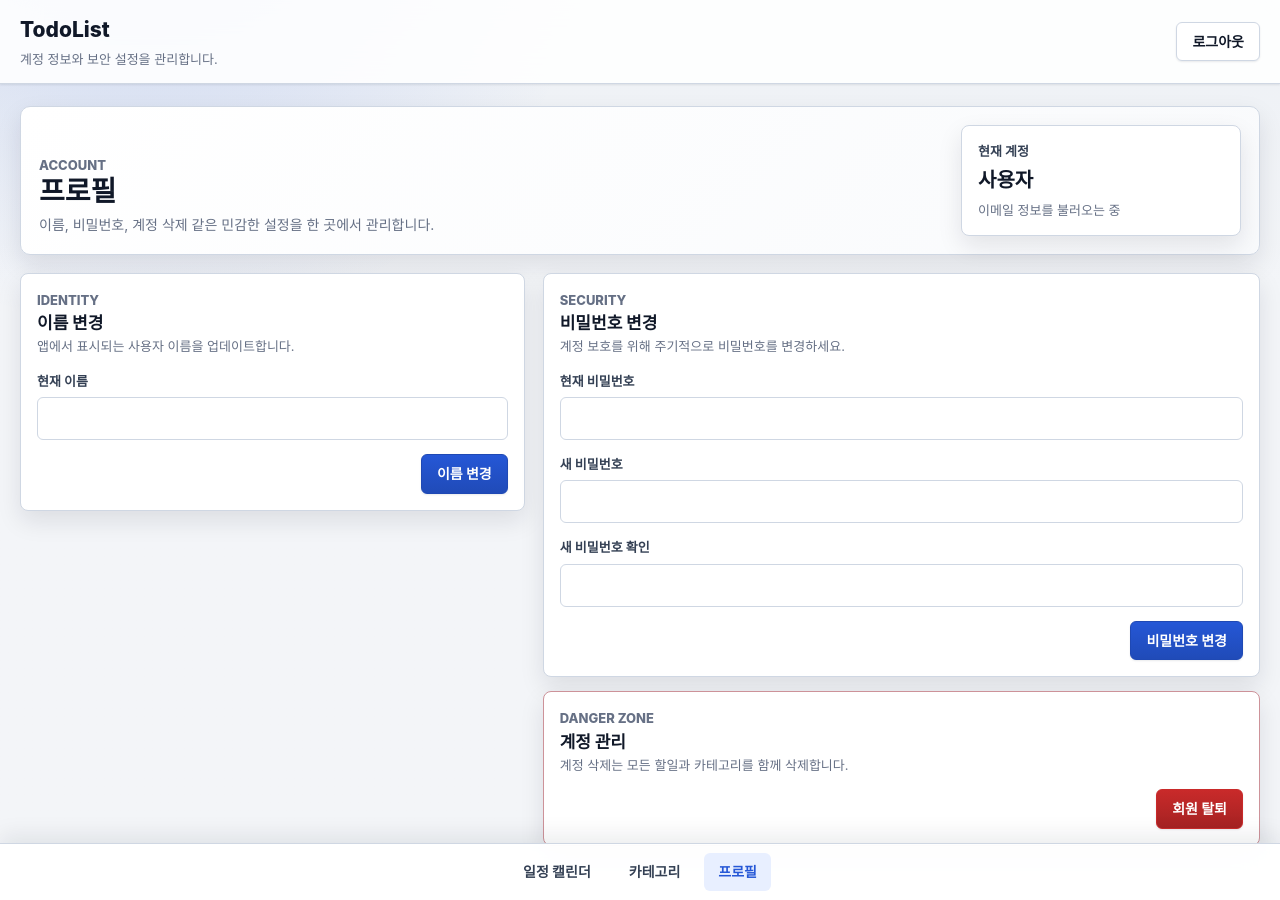
Test: ProfilePage — 비밀번호 변경 › 현재 비밀번호 불일치(401) 시 오류 메시지가 표시된다
Type "wrongpass" into the password field labelled "현재 비밀번호" at {"x": 901, "y": 418}, box [560,397,1243,440]
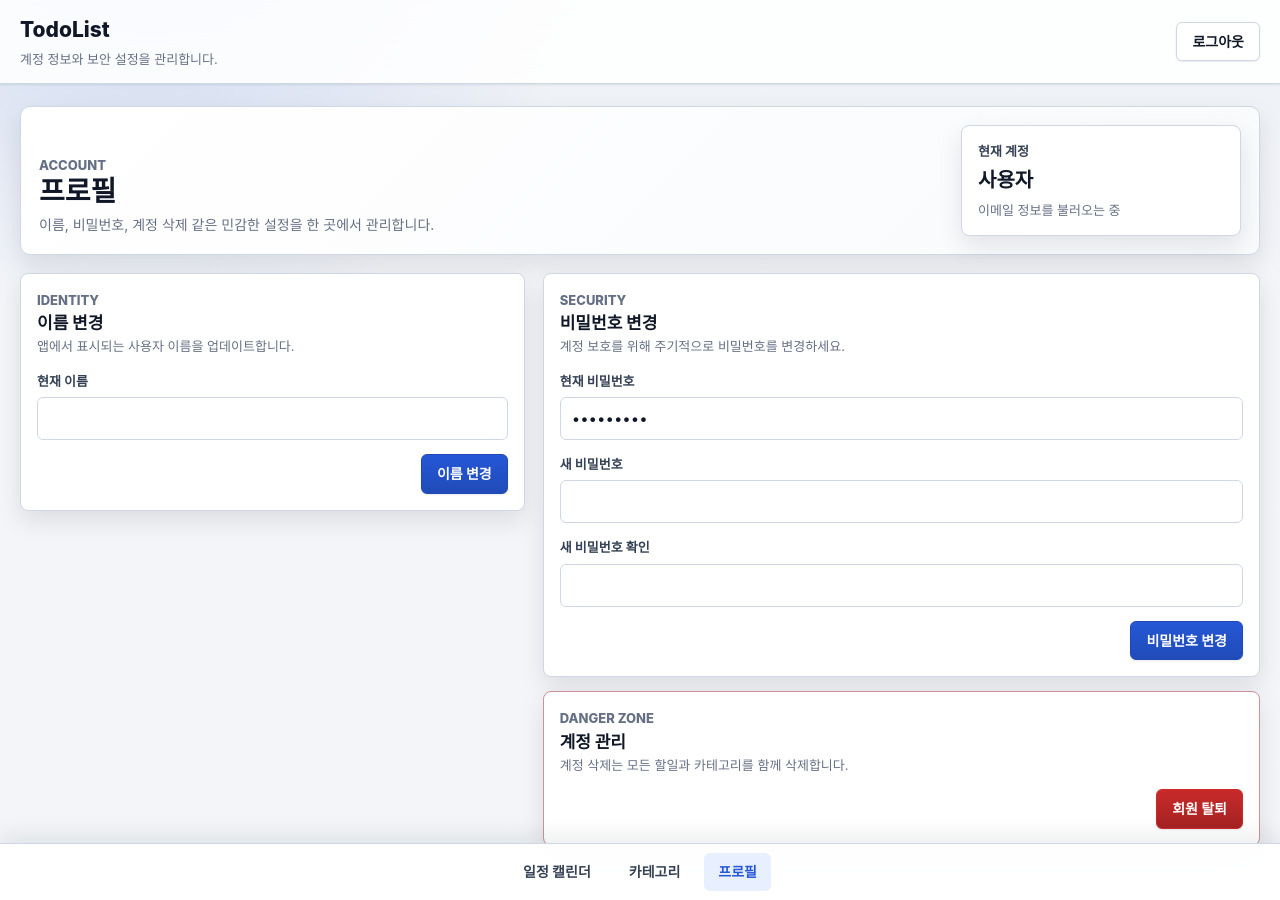
Type "newpass123" into the password field labelled "새 비밀번호" at {"x": 901, "y": 502}, box [560,480,1243,523]
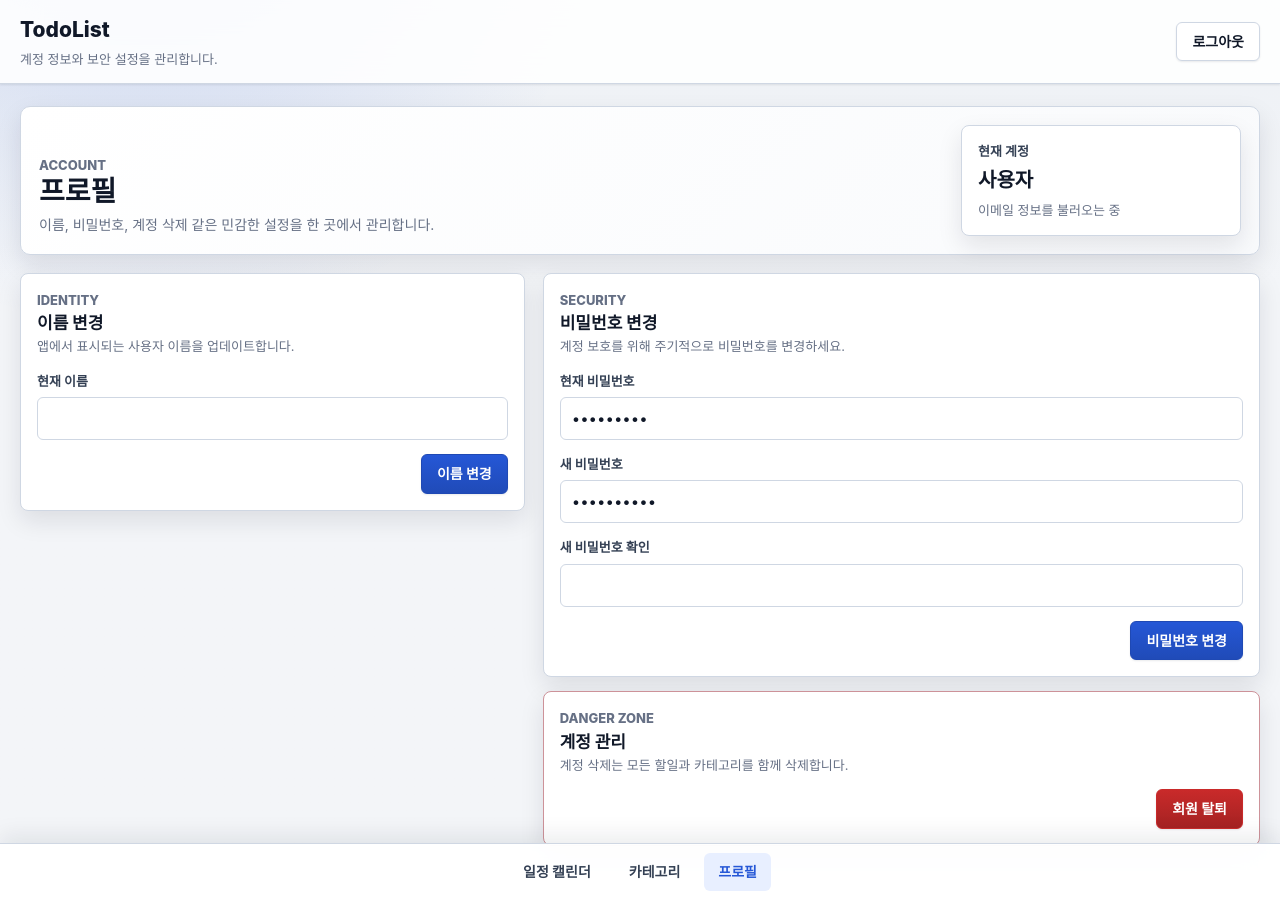
Type "newpass123" into the password field labelled "새 비밀번호 확인" at {"x": 901, "y": 585}, box [560,564,1243,607]
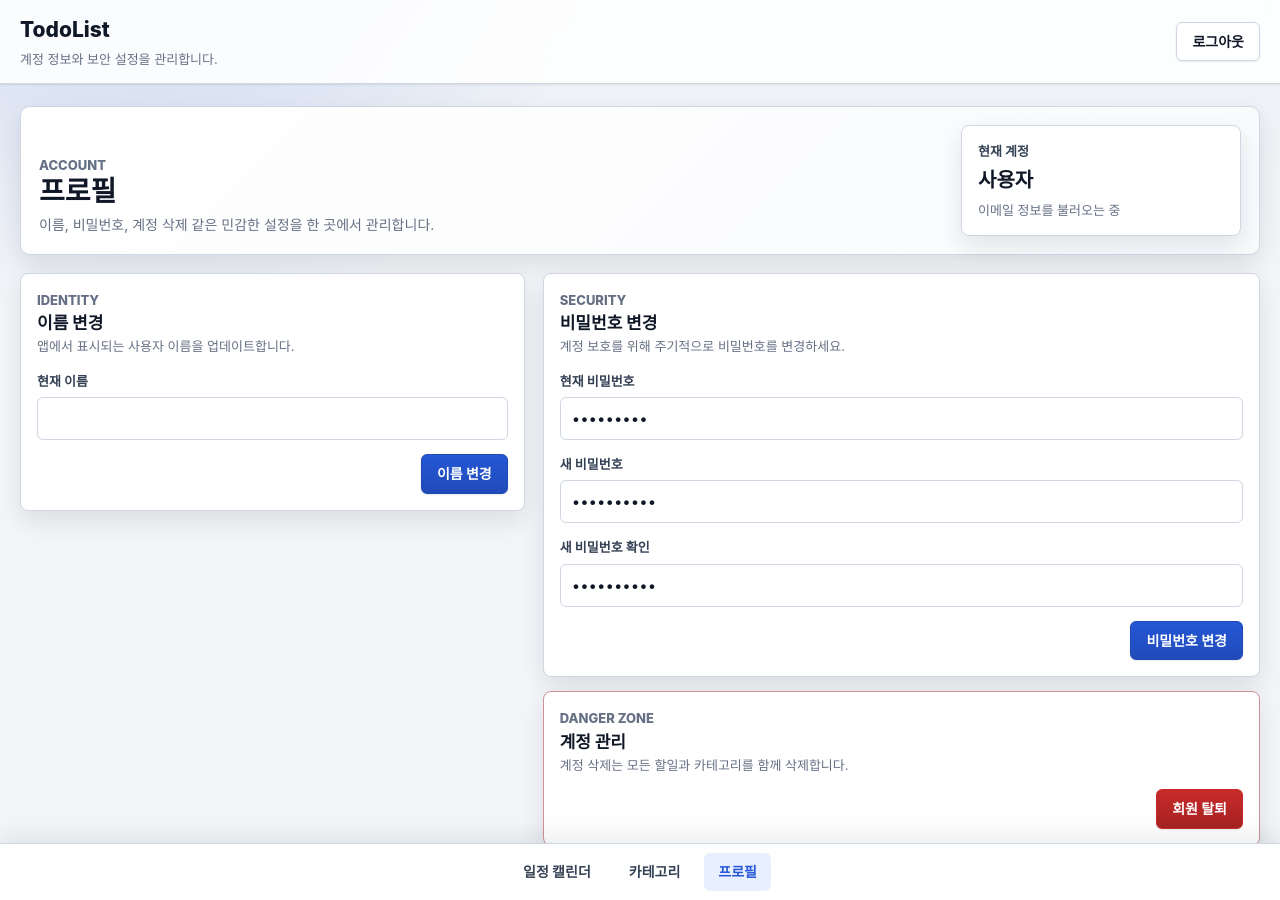
Click the button "비밀번호 변경" at {"x": 1187, "y": 641}, box [1130,621,1243,660]
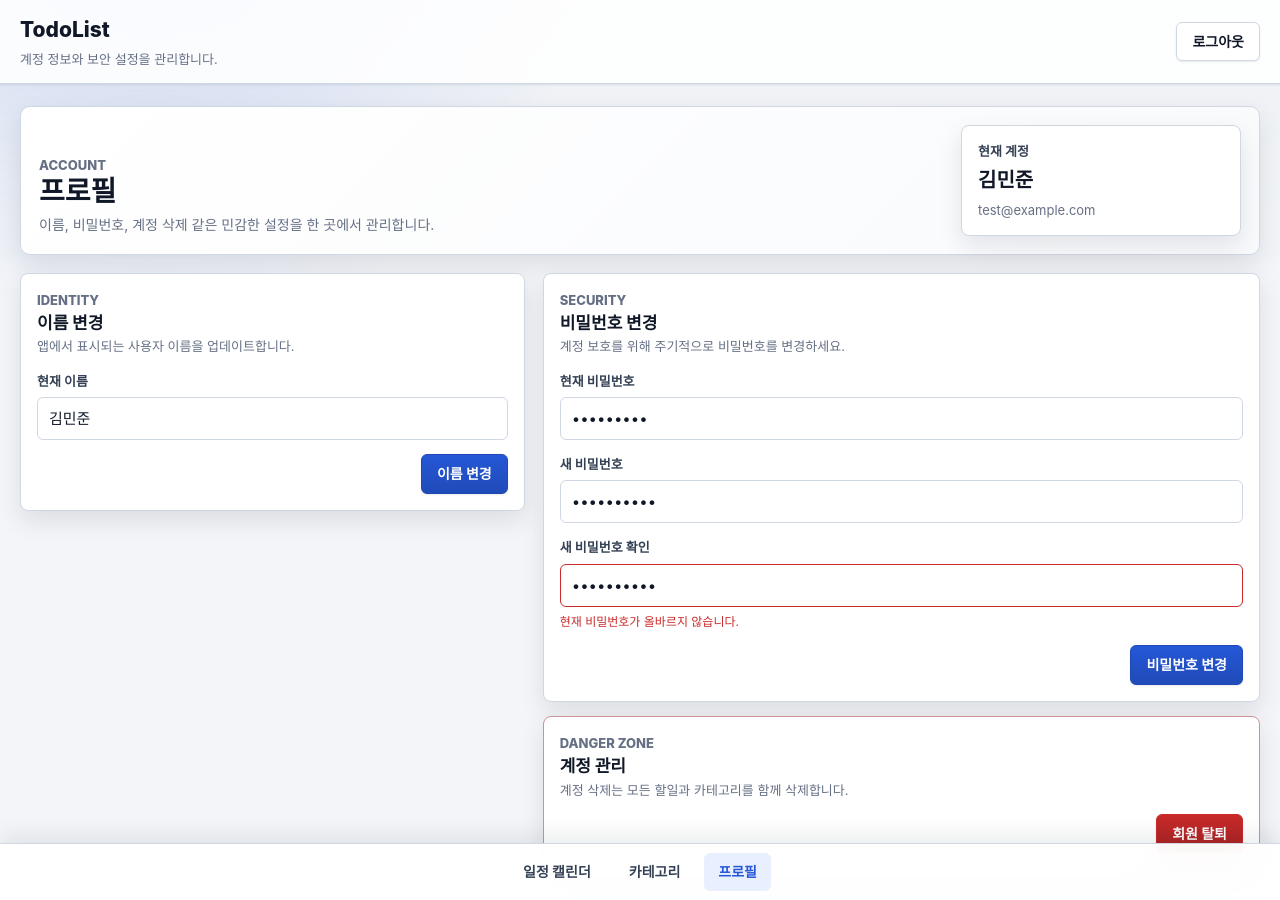
Check: the message reads "현재 비밀번호가 올바르지 않습니다.", box [560,614,739,629]
